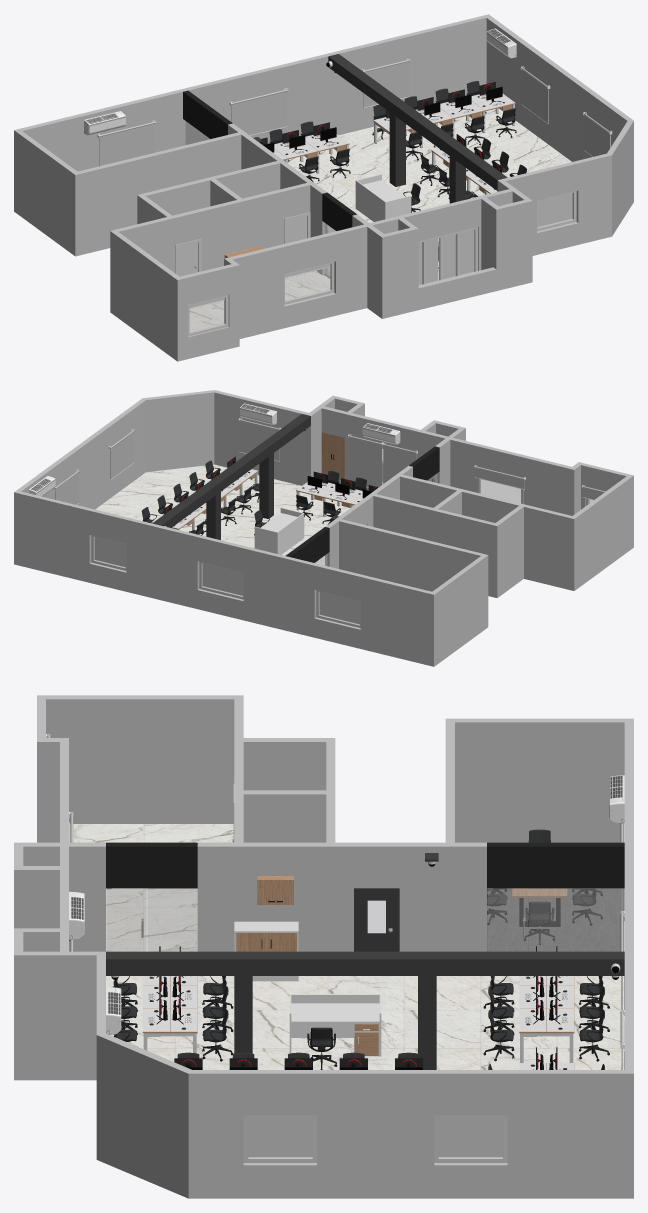
Rendered from Energy Analysis Digital Twin Office Model.glb.
3 renders of one model, top to bottom at view 1: azimuth 30°, elevation 25°; view 2: azimuth 150°, elevation 25°; view 3: azimuth 270°, elevation 25°, orthographic. The views are drawn at different scales.
Parts seen in each view (by area): view 1: Plane.020, Plane.005, Plane.022, Plane.016, Plane.026, Plane.002, Plane.008, Plane.015, Plane.017, Plane.035, Plane.036, Cube.279 (+29 smaller); view 2: Plane.020, Plane.015, Plane.026, Plane.022, Plane.016, Plane.005, Plane.008, Plane.001, Plane.017, Plane.007, Cube.279, Plane.029 (+28 smaller); view 3: Plane.020, Plane.034, Plane.022, Plane.008, Plane.017, Plane.026, Cube.279, Plane.009, Plane.036, Plane.033, Plane.018, Plane.028 (+35 smaller).
Part boxes in pixels (x1,y1,x2,y2): Plane.020: (185, 14, 627, 161); Plane.005: (180, 224, 367, 360); Plane.022: (288, 108, 571, 280); Plane.016: (72, 132, 241, 256); Plane.026: (497, 116, 633, 255); Plane.002: (173, 183, 310, 271); Plane.008: (110, 229, 182, 361); Plane.015: (14, 88, 188, 213); Plane.017: (17, 131, 76, 253); Plane.035: (367, 218, 418, 318); Plane.036: (481, 190, 532, 290); Cube.279: (328, 54, 507, 190); Plane.020: (14, 402, 284, 629); Plane.015: (282, 556, 436, 666); Plane.026: (137, 390, 313, 485); Plane.022: (95, 464, 383, 565); Plane.016: (339, 519, 488, 628); Plane.005: (450, 438, 628, 515); Plane.008: (569, 474, 633, 590); Plane.001: (373, 494, 494, 596); Plane.017: (432, 556, 485, 664); Plane.007: (524, 505, 571, 589); Cube.279: (152, 414, 310, 527); Plane.029: (321, 406, 447, 490); Plane.020: (207, 846, 633, 1198); Plane.034: (197, 842, 486, 951); Plane.022: (106, 976, 624, 1069); Plane.008: (37, 695, 243, 823); Plane.017: (455, 718, 624, 842); Plane.026: (96, 951, 206, 1198); Cube.279: (106, 951, 624, 975); Plane.009: (70, 824, 233, 951); Plane.036: (14, 928, 59, 1080); Plane.033: (487, 842, 624, 888); Plane.018: (487, 888, 624, 951); Plane.028: (60, 951, 96, 1080).
Bounding box in the file's own units: 19.5 × 3 × 13.5.
36 materials, 6 textured.
